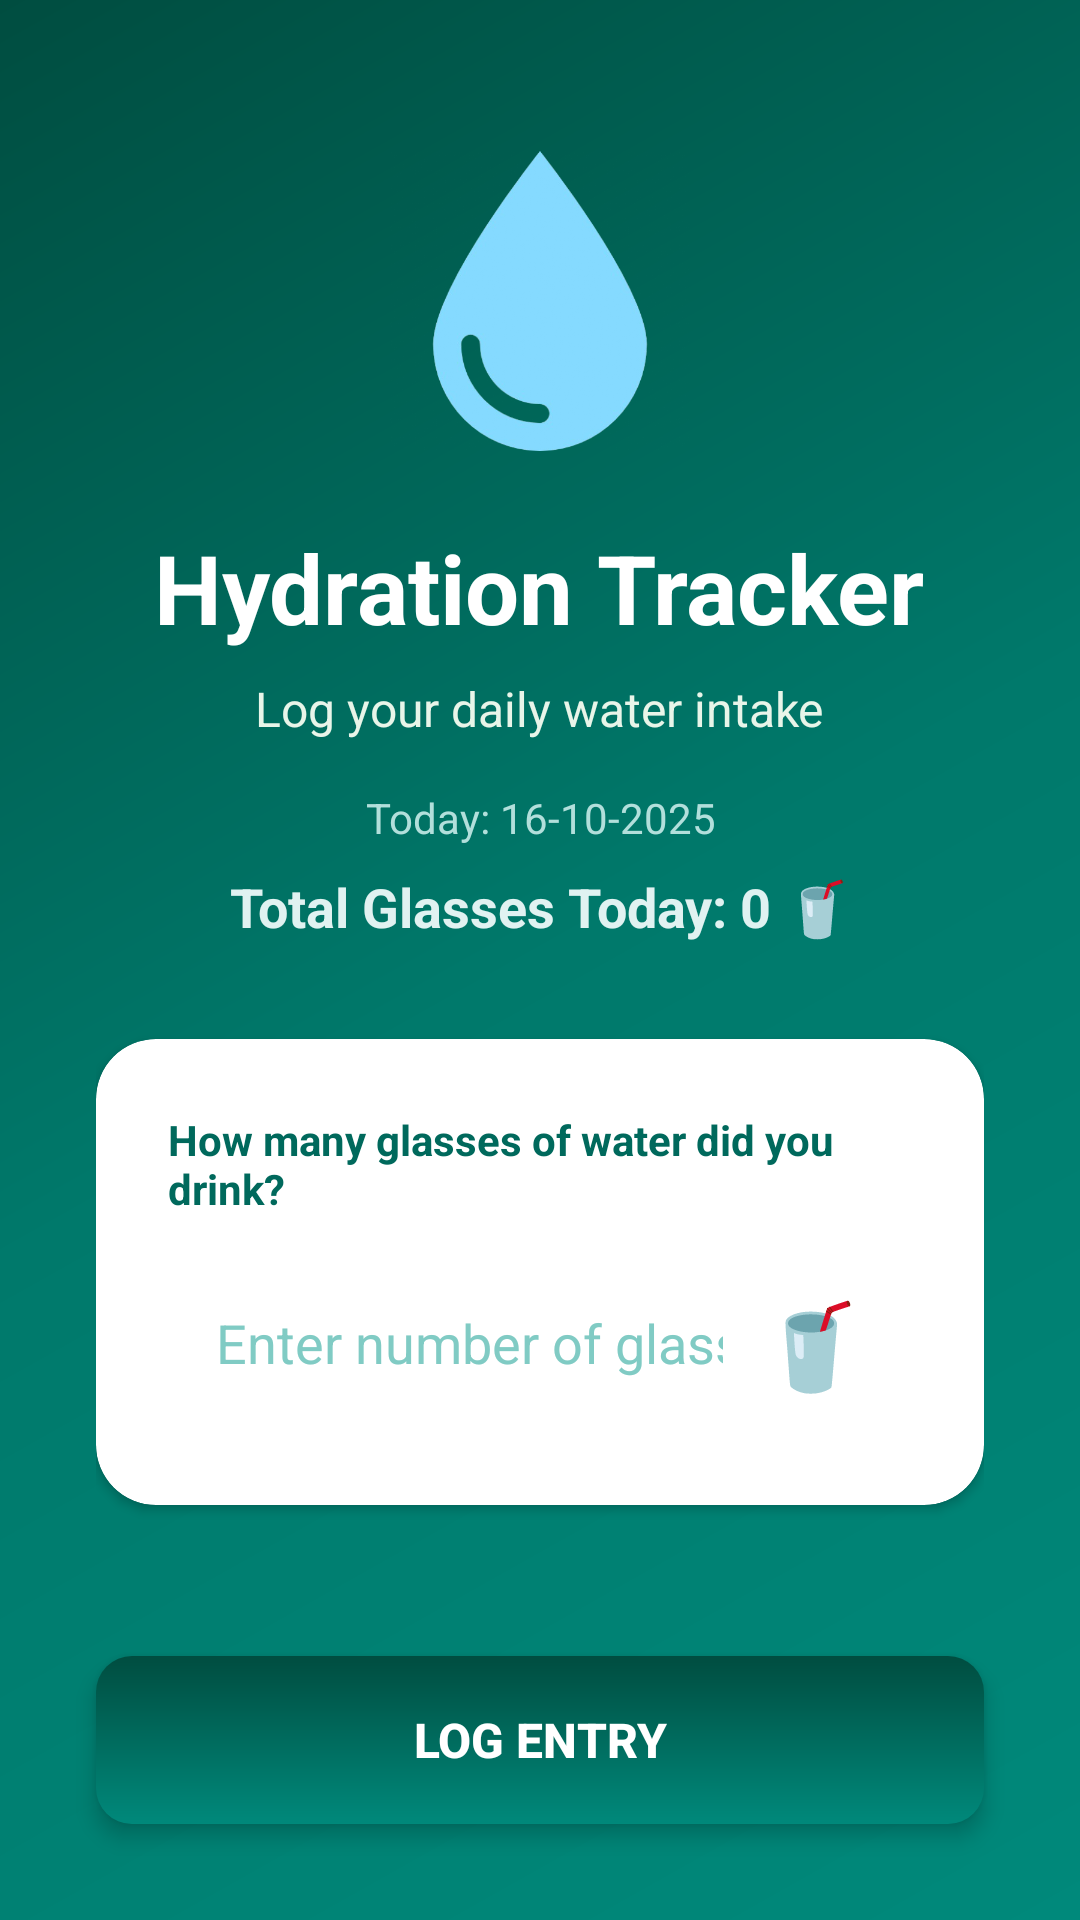

Where to tap for icons on this 1080 x 1920 app screen, as (x=x, y=y):
Water Drop: (x=540, y=301)
